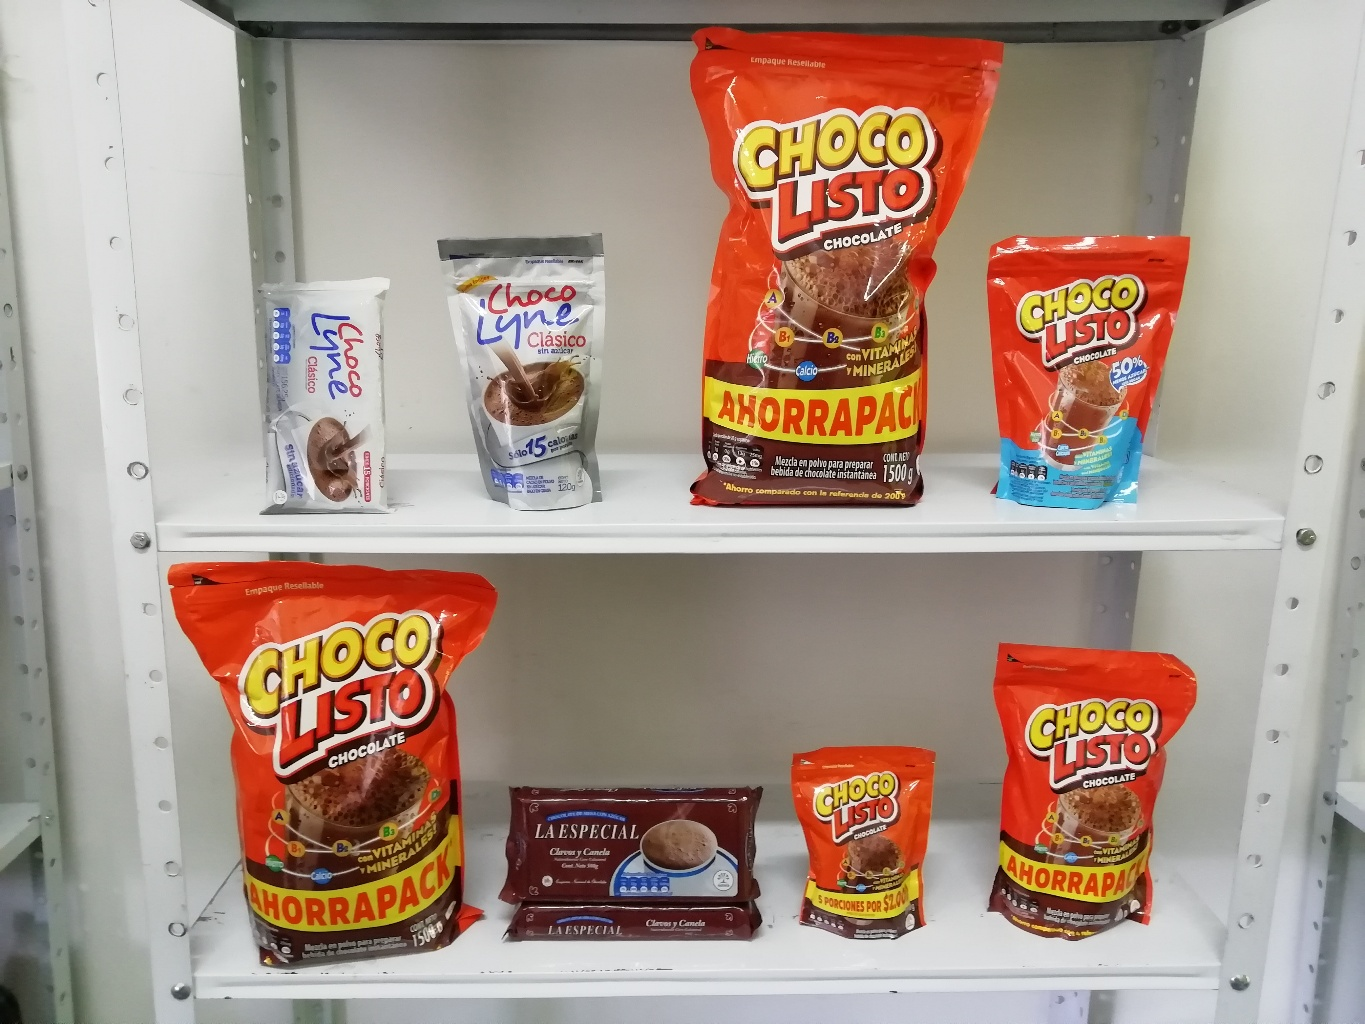COL0170103DYP1,500: (659, 18, 1010, 531)
COL0170103DYP10000: (776, 724, 945, 944)
COL0170103DYP40000: (976, 632, 1205, 940)
COL0170104DYP20000: (973, 216, 1202, 524)
